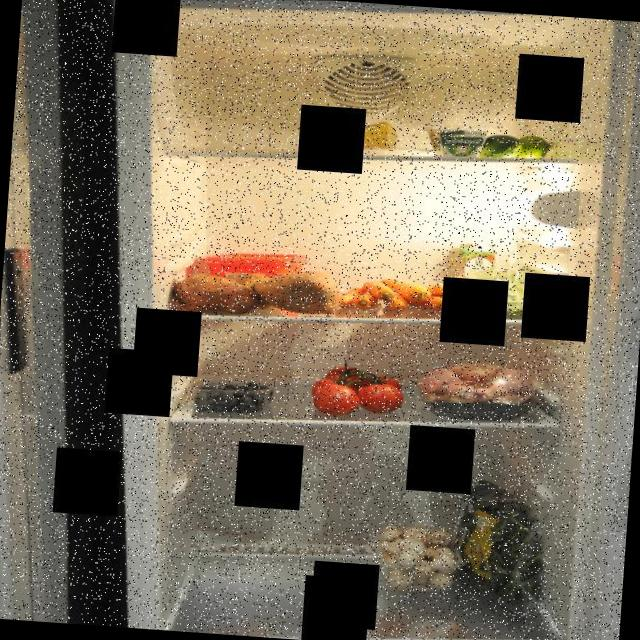Carne pollo: (408, 352, 552, 428)
Champiñones: (362, 519, 460, 597)
Mantequilla: (196, 245, 312, 314)
Queso: (346, 118, 403, 156)
Tomate: (300, 350, 409, 423)
Zanahoria: (329, 270, 456, 322)
